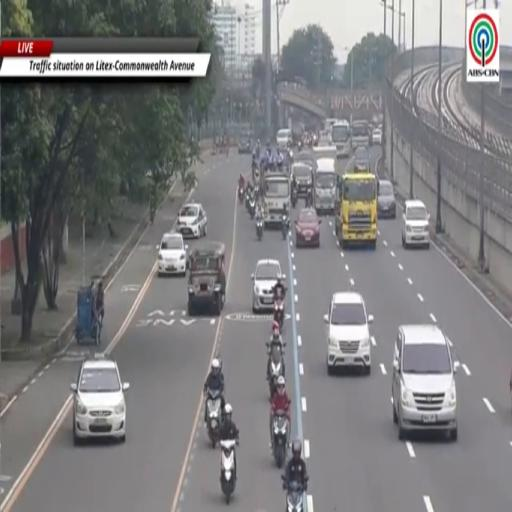bus: (331, 121, 351, 158), (324, 119, 337, 132)
car: (392, 325, 459, 440), (71, 355, 129, 444), (324, 292, 373, 375), (188, 242, 226, 316), (251, 260, 285, 313), (157, 232, 188, 276), (402, 200, 429, 248), (177, 203, 207, 238), (295, 208, 321, 247), (292, 162, 313, 197), (378, 181, 396, 218), (294, 151, 316, 171), (277, 128, 292, 150), (238, 134, 252, 154), (372, 128, 382, 145)
motorcycle: (220, 440, 236, 504), (206, 389, 221, 447), (273, 410, 288, 468), (268, 344, 284, 397), (286, 482, 303, 511), (274, 297, 284, 332), (282, 215, 289, 239), (256, 219, 263, 241), (249, 197, 255, 220), (252, 159, 258, 180), (291, 187, 297, 207), (238, 186, 245, 203), (246, 190, 251, 212), (288, 149, 293, 165), (297, 141, 303, 151)
truck: (336, 172, 377, 249), (261, 171, 290, 228), (314, 157, 337, 214), (352, 120, 370, 148), (313, 146, 336, 159)
